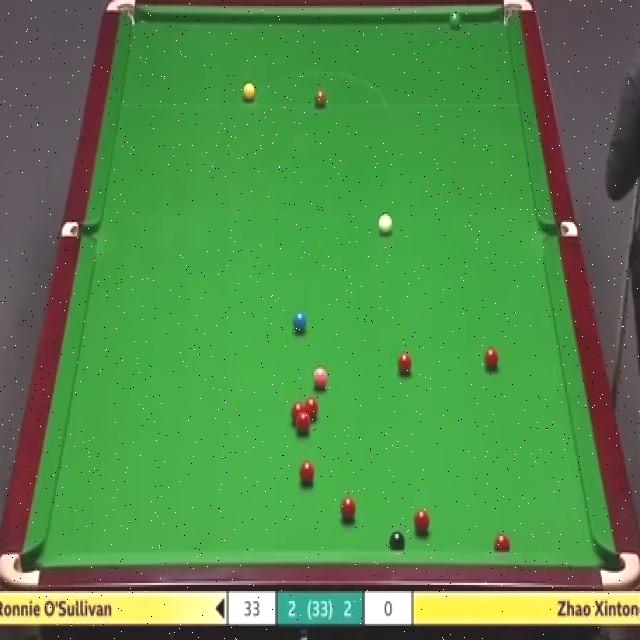black-ball: (389, 530, 406, 551)
blue-ball: (292, 309, 308, 337)
brown-ball: (313, 85, 328, 110)
green-ball: (448, 10, 462, 29)
pink-ball: (312, 366, 328, 392)
red-ball: (298, 459, 315, 487), (339, 496, 358, 521), (413, 508, 430, 534), (398, 351, 413, 375), (485, 346, 499, 371), (493, 532, 511, 550), (296, 410, 310, 432), (305, 398, 318, 417), (292, 401, 304, 418)
white-ball: (376, 211, 394, 238)
yellow-ball: (242, 79, 256, 103)
